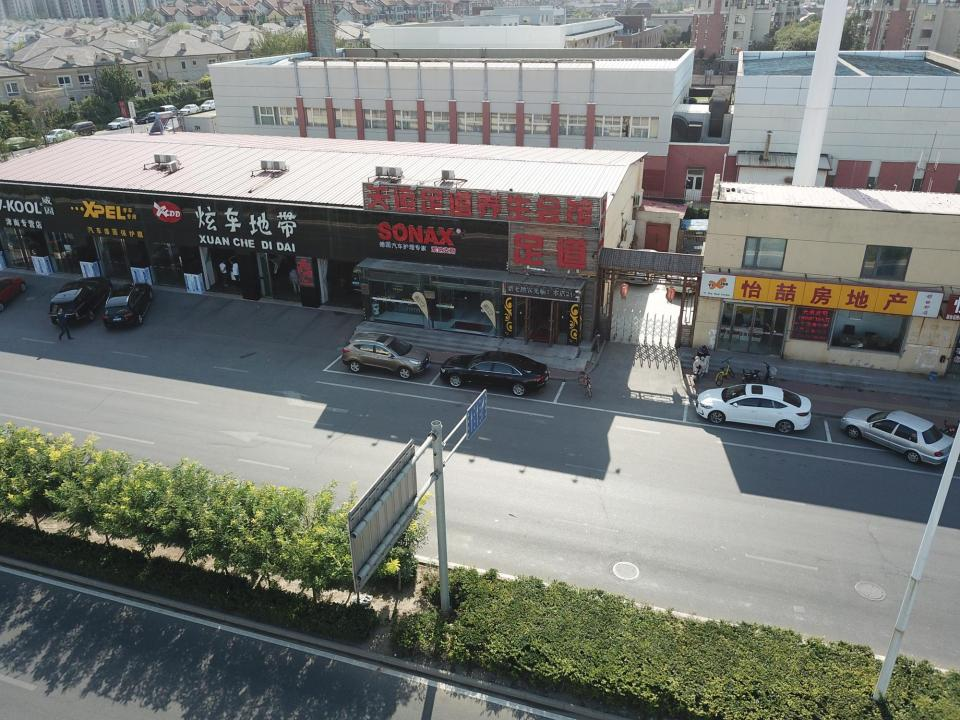car: (840, 407, 957, 465), (696, 384, 811, 434), (440, 350, 549, 396), (341, 331, 430, 380), (48, 276, 113, 325), (102, 282, 153, 328), (664, 252, 704, 293), (625, 248, 659, 284), (41, 128, 75, 144), (106, 116, 134, 129), (136, 111, 162, 124), (178, 103, 200, 114), (200, 99, 220, 111)
van: (68, 121, 97, 137), (159, 105, 180, 118)
